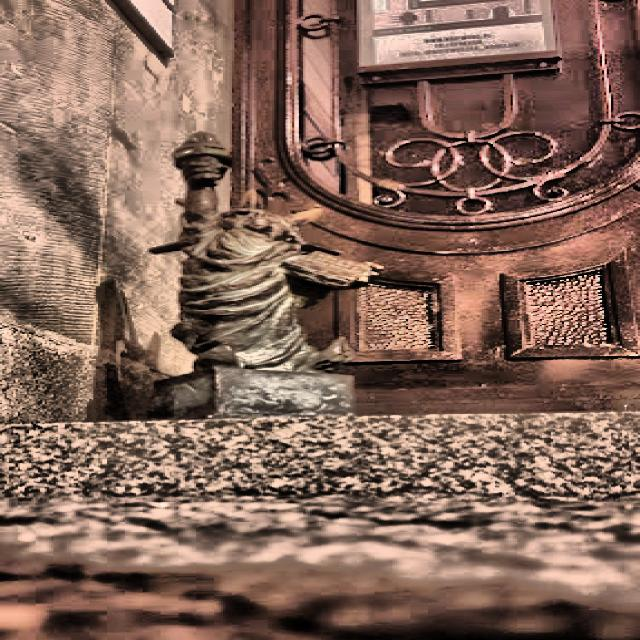LadyWolnosc: (151, 133, 378, 418)
